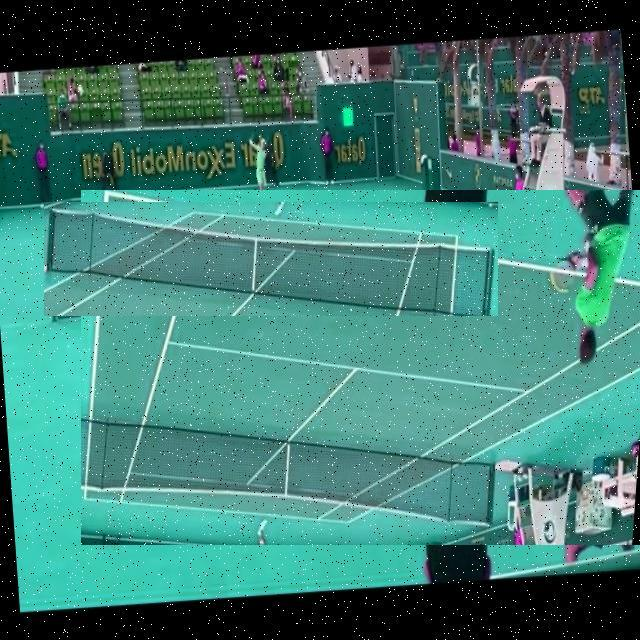court: (81, 190, 640, 545)
net: (44, 202, 498, 316)
player: (544, 366, 636, 569)
